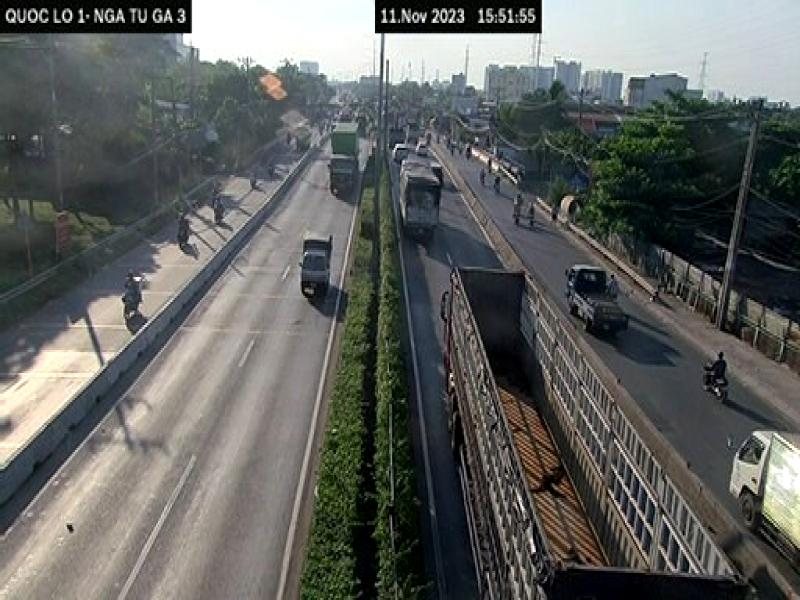truck: (437, 260, 747, 600), (730, 426, 800, 572), (562, 262, 630, 335), (397, 154, 442, 246), (326, 117, 362, 201), (299, 227, 337, 299)
